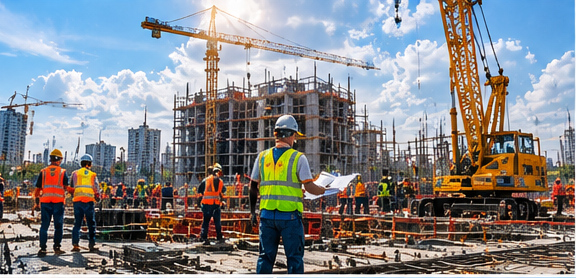crane: (390, 4, 528, 230), (135, 5, 247, 199)
hardhat: (272, 112, 299, 135), (206, 162, 224, 173), (77, 154, 94, 162), (50, 147, 62, 157)
person: (245, 109, 322, 274), (66, 153, 108, 257), (186, 160, 233, 247), (32, 144, 64, 258), (131, 177, 152, 212), (374, 172, 392, 212), (335, 178, 350, 216)
safety_vest: (257, 144, 304, 210), (40, 166, 66, 205), (72, 166, 98, 202), (203, 177, 224, 206), (353, 182, 368, 200), (378, 182, 388, 198)
